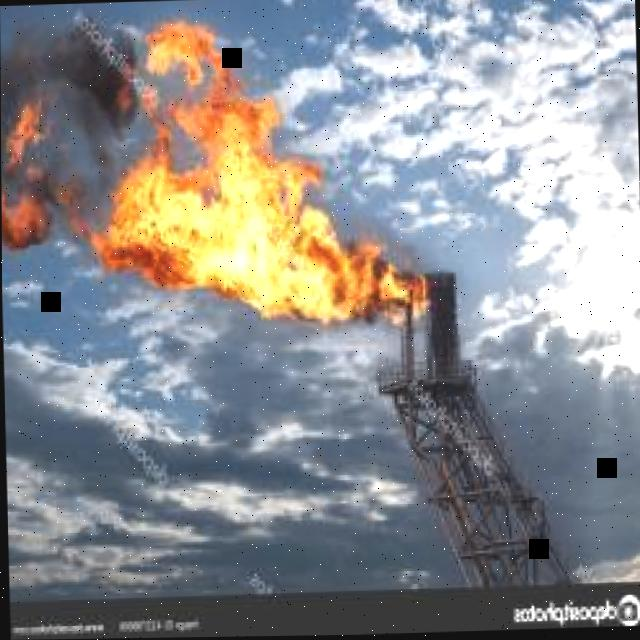fire: (86, 17, 424, 332), (1, 178, 52, 251)
smoke: (0, 11, 154, 236)
